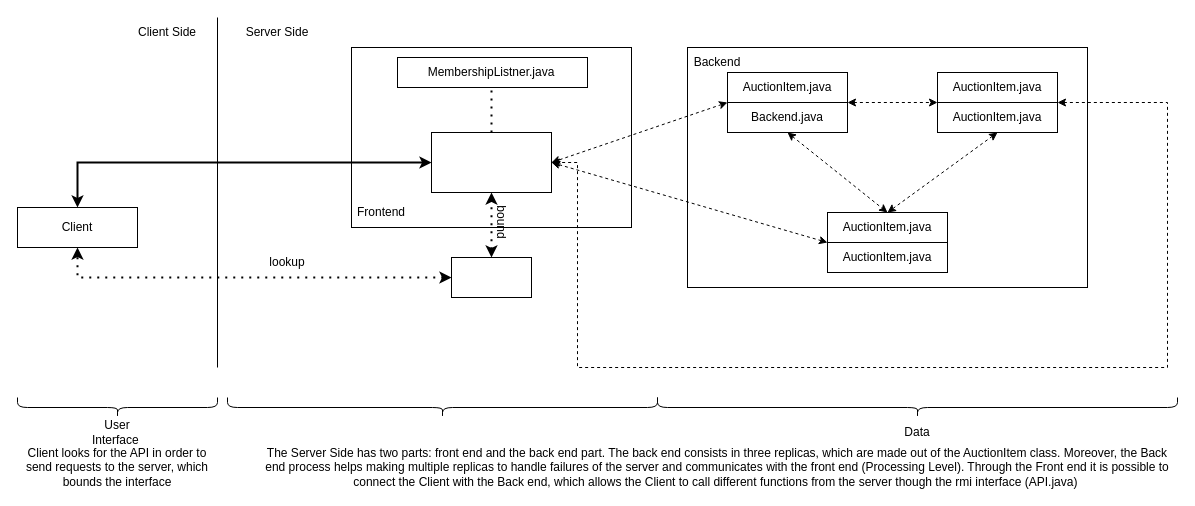
Some shapes in this 1195 by 506 pixel diagram are drawn without their labels. The centre of each missing label's shape, as x and y in pixels:
"api.API" belongs at pixel 491 277.
"Frontend.java" belongs at pixel 491 162.
"Processing" belongs at pixel 442 407.
